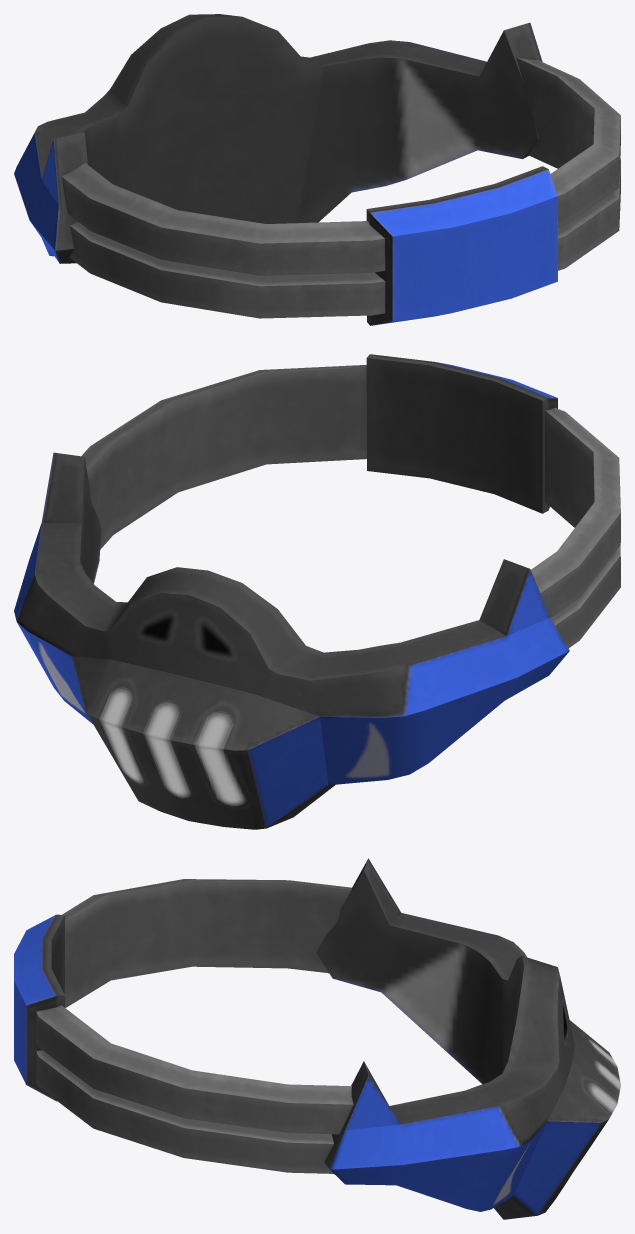
File: IG_Helmat_Fleeze.fbx
3 views of the same model, one above another, from view 1: azimuth 30°, elevation 25°; view 2: azimuth 150°, elevation 25°; view 3: azimuth 270°, elevation 25° (orthographic). The views are drawn at different scales.
Visible parts, largest first — view 1: Helmets_TwinsBoss; view 2: Helmets_TwinsBoss; view 3: Helmets_TwinsBoss.
Boxes of the visible parts, x1,y1,x2,y2 form: Helmets_TwinsBoss: (14, 14, 620, 325); Helmets_TwinsBoss: (14, 354, 620, 829); Helmets_TwinsBoss: (14, 858, 620, 1219).
Size of the model in its own units: 0.5637 by 0.2599 by 0.6173.
